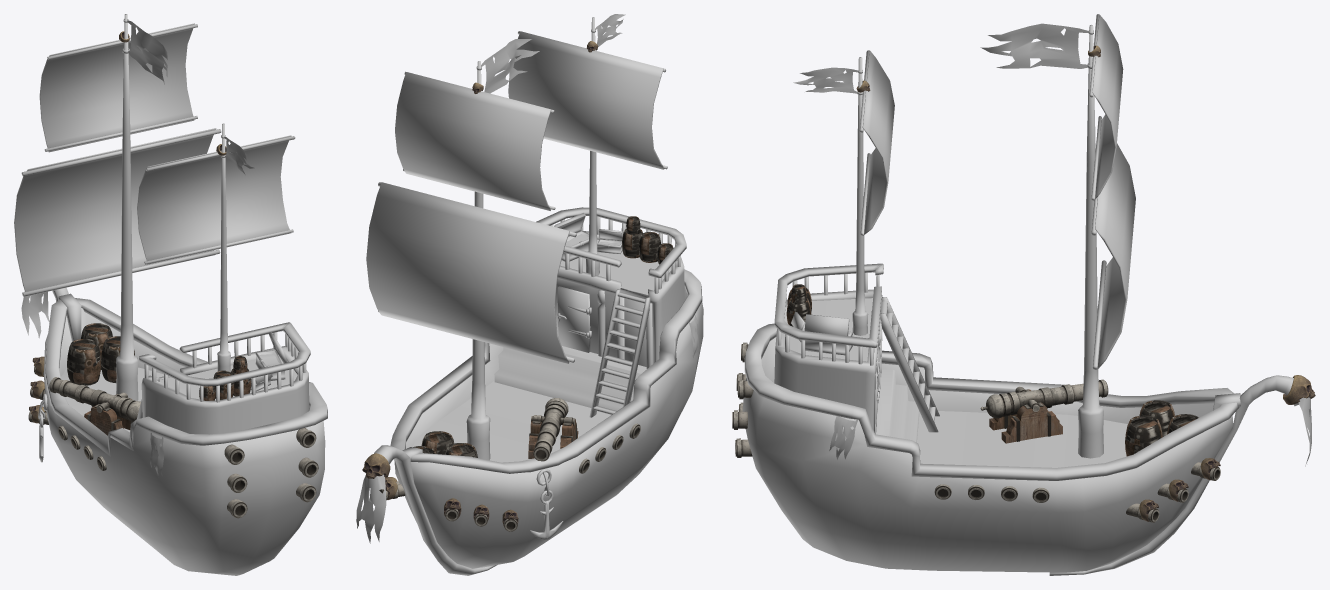
The model's file is stylized_ship.fbx.
3 renders of one model, left to right at view 1: azimuth 30°, elevation 25°; view 2: azimuth 150°, elevation 25°; view 3: azimuth 270°, elevation 25°, orthographic. The views are drawn at different scales.
Parts seen in each view (by area): view 1: ship, big_flags, ship.001, barrels, flags, cannon2, cannon1, treasure, Skull; view 2: ship, big_flags, flags, wood_stair, barrels, cannon1, door, Skull, treasure, cannon2; view 3: ship, big_flags, flags, cannon1, barrels, cannon2, wood_stair, ship.001, Skull, treasure.
Boxes of the visible parts, x1=… form: ship: x1=38, y1=14, x2=327, y2=575; big_flags: x1=14, y1=23, x2=291, y2=296; ship.001: x1=21, y1=24, x2=295, y2=296; barrels: x1=67, y1=323, x2=251, y2=400; flags: x1=21, y1=20, x2=254, y2=477; cannon2: x1=28, y1=366, x2=318, y2=518; cannon1: x1=49, y1=377, x2=140, y2=435; treasure: x1=250, y1=332, x2=287, y2=391; Skull: x1=29, y1=31, x2=226, y2=423; ship: x1=374, y1=17, x2=703, y2=575; big_flags: x1=366, y1=31, x2=664, y2=363; flags: x1=356, y1=14, x2=698, y2=543; wood_stair: x1=589, y1=289, x2=650, y2=417; barrels: x1=413, y1=216, x2=673, y2=457; cannon1: x1=528, y1=398, x2=578, y2=461; door: x1=557, y1=286, x2=591, y2=352; Skull: x1=362, y1=41, x2=598, y2=525; treasure: x1=554, y1=213, x2=622, y2=261; cannon2: x1=379, y1=423, x2=640, y2=531; ship: x1=742, y1=25, x2=1298, y2=575; big_flags: x1=862, y1=14, x2=1135, y2=369; flags: x1=793, y1=23, x2=1311, y2=466; cannon1: x1=980, y1=379, x2=1108, y2=443; barrels: x1=786, y1=284, x2=1198, y2=456; cannon2: x1=732, y1=342, x2=1220, y2=522; wood_stair: x1=880, y1=297, x2=939, y2=432; ship.001: x1=859, y1=14, x2=1106, y2=369; Skull: x1=856, y1=45, x2=1315, y2=521; treasure: x1=791, y1=311, x2=852, y2=355.
Bounding box in the file's own units: 536 × 1308 × 1256.
